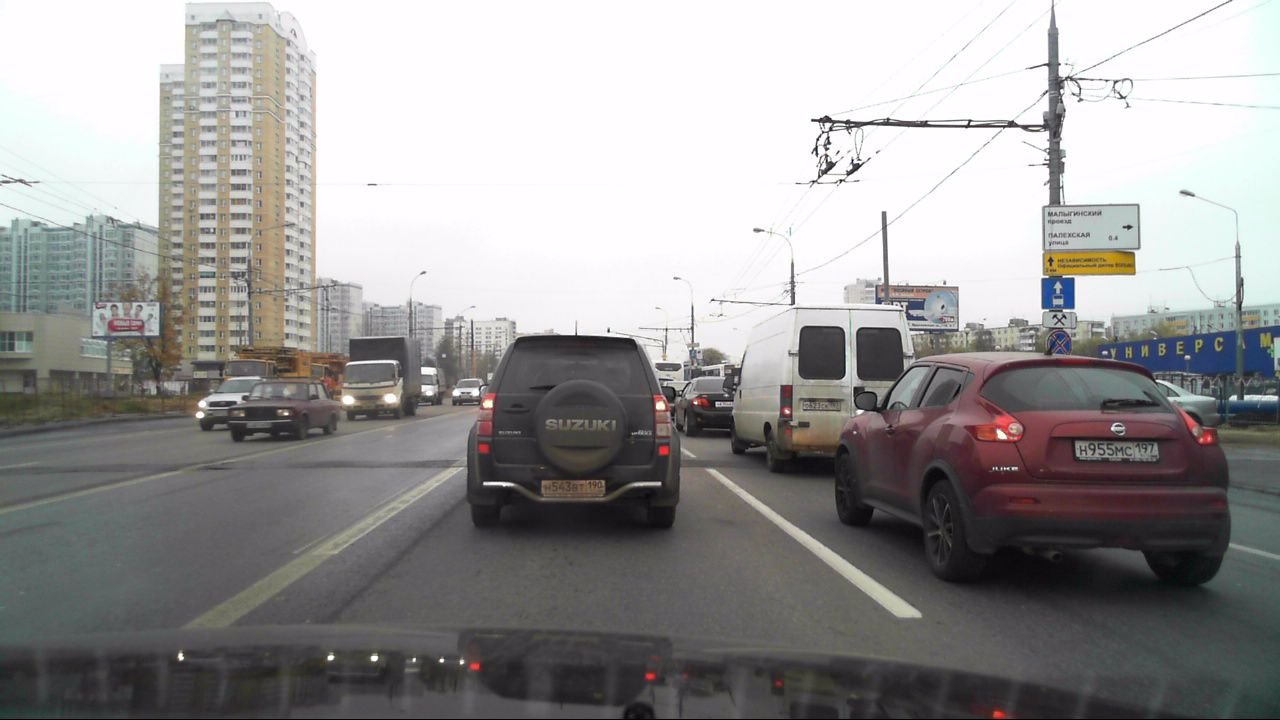No Parking: (1045, 332, 1071, 358)
